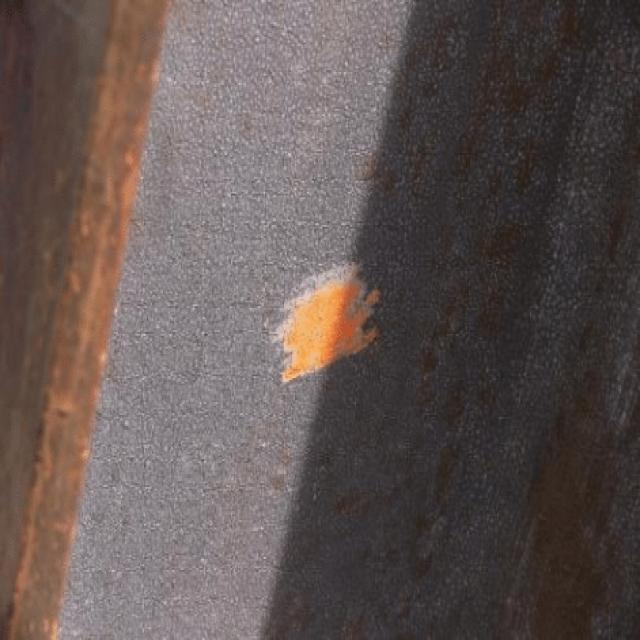Corrosion: (278, 264, 381, 382)
